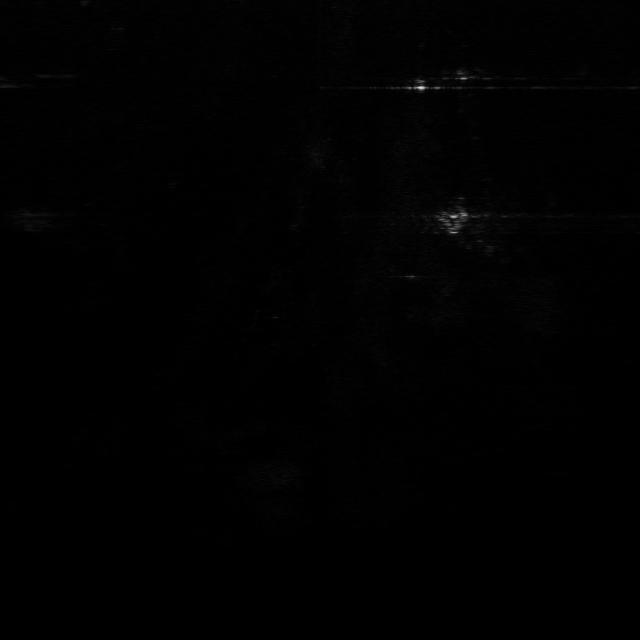rov: (433, 207, 476, 237)
